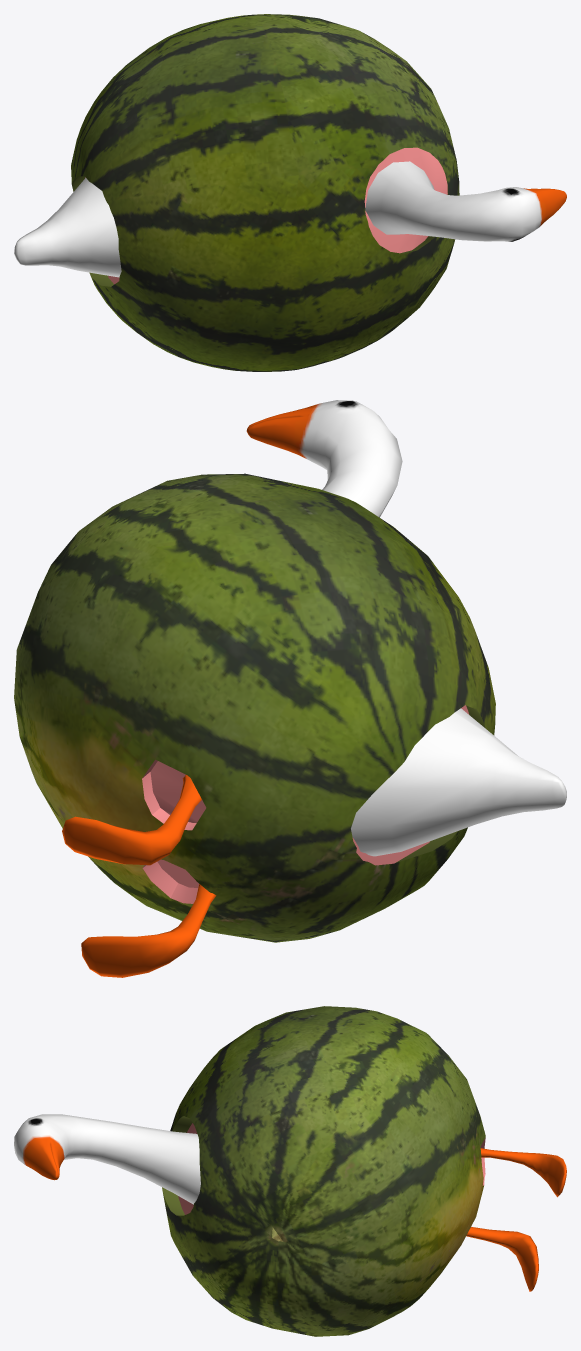
File: ref_goose_watermelon.glb
3 views of the same model, one above another, from view 1: azimuth 30°, elevation 25°; view 2: azimuth 150°, elevation 25°; view 3: azimuth 270°, elevation 25° (orthographic). The views are drawn at different scales.
Parts seen in each view (by area): view 1: ref_goose_watermelon_part2, ref_goose_watermelon_part1, ref_goose_watermelon_part0; view 2: ref_goose_watermelon_part2, ref_goose_watermelon_part1, ref_goose_watermelon_part0; view 3: ref_goose_watermelon_part2, ref_goose_watermelon_part1.
Part boxes in pixels (bbox=[...]): ref_goose_watermelon_part2: bbox=[71, 14, 459, 371]; ref_goose_watermelon_part1: bbox=[14, 161, 566, 277]; ref_goose_watermelon_part0: bbox=[85, 147, 447, 284]; ref_goose_watermelon_part2: bbox=[14, 473, 495, 942]; ref_goose_watermelon_part1: bbox=[62, 400, 566, 977]; ref_goose_watermelon_part0: bbox=[142, 705, 469, 903]; ref_goose_watermelon_part2: bbox=[162, 1006, 485, 1336]; ref_goose_watermelon_part1: bbox=[14, 1114, 566, 1291].
Size of the model in its own units: 0.7891 by 0.5773 by 1.
Materials: 3 (2 with a texture image).
